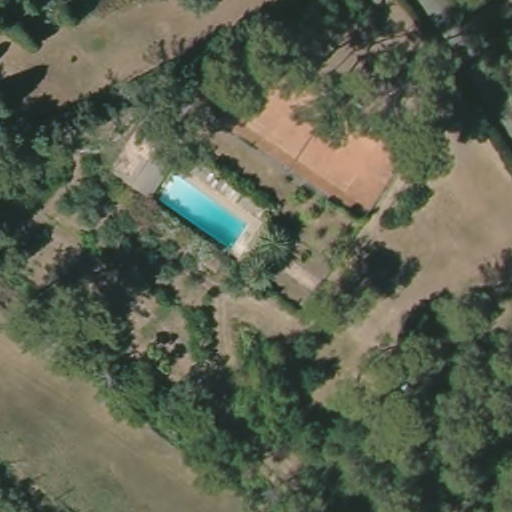pool: (154, 173, 248, 254)
